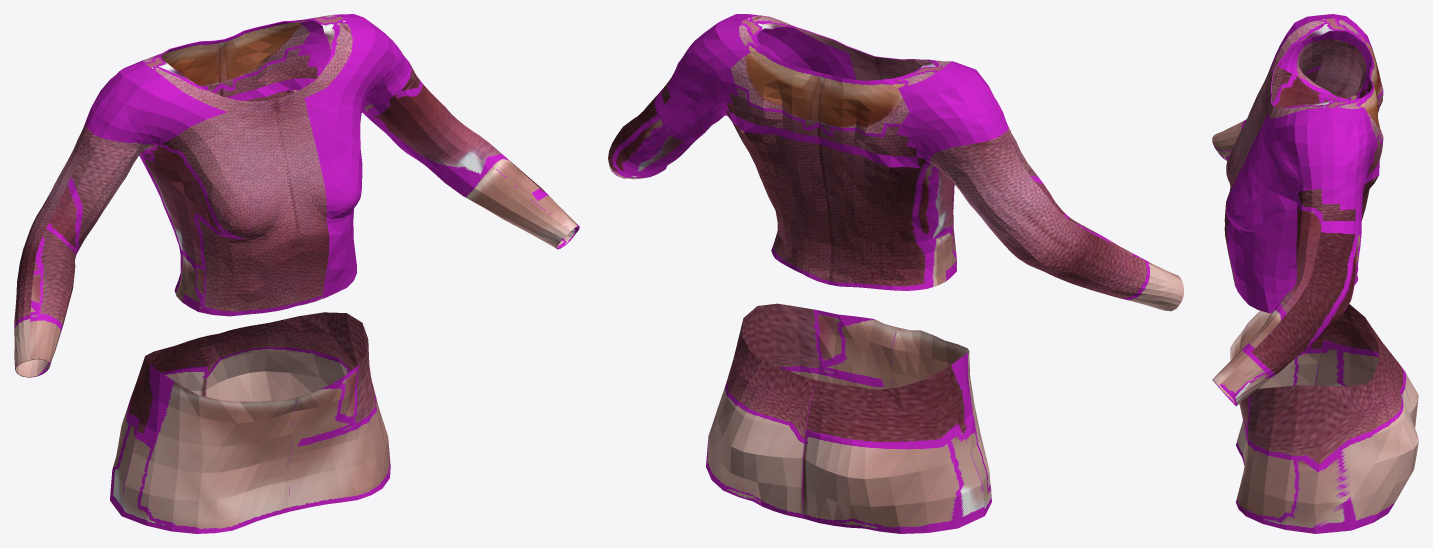
3 views of the same model, side by side, from view 1: azimuth 30°, elevation 25°; view 2: azimuth 150°, elevation 25°; view 3: azimuth 270°, elevation 25° (orthographic). The views are drawn at different scales.
Size of the model in its own units: 1.07 by 0.7947 by 0.3622.
Materials: 1 (1 with a texture image).
